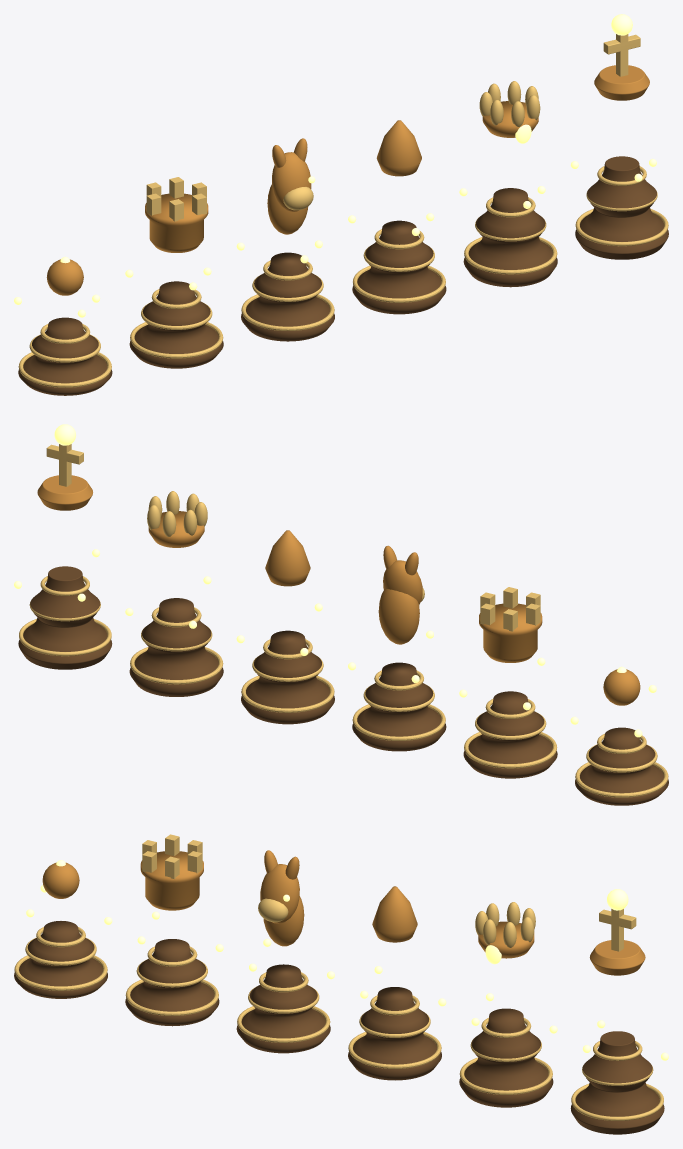
File: 07_Steampunk_Mecanico_6_Piezas.glb
3 views of the same model, one above another, from view 1: azimuth 30°, elevation 25°; view 2: azimuth 150°, elevation 25°; view 3: azimuth 330°, elevation 25° (orthographic).
Parts seen in each view (by area): view 1: 07_Steampunk_Mecanico_Torre, 07_Steampunk_Mecanico_Rey, 07_Steampunk_Mecanico_Reina, 07_Steampunk_Mecanico_Caballo, 07_Steampunk_Mecanico_Alfil, 07_Steampunk_Mecanico_Peon; view 2: 07_Steampunk_Mecanico_Torre, 07_Steampunk_Mecanico_Rey, 07_Steampunk_Mecanico_Caballo, 07_Steampunk_Mecanico_Reina, 07_Steampunk_Mecanico_Alfil, 07_Steampunk_Mecanico_Peon; view 3: 07_Steampunk_Mecanico_Torre, 07_Steampunk_Mecanico_Rey, 07_Steampunk_Mecanico_Reina, 07_Steampunk_Mecanico_Caballo, 07_Steampunk_Mecanico_Alfil, 07_Steampunk_Mecanico_Peon.
Boxes of the visible parts, x1,y1,x2,y2 form: 07_Steampunk_Mecanico_Torre: [125, 177, 223, 368]; 07_Steampunk_Mecanico_Rey: [570, 14, 668, 259]; 07_Steampunk_Mecanico_Reina: [459, 81, 557, 287]; 07_Steampunk_Mecanico_Caballo: [236, 138, 334, 341]; 07_Steampunk_Mecanico_Alfil: [348, 120, 446, 314]; 07_Steampunk_Mecanico_Peon: [14, 256, 112, 395]; 07_Steampunk_Mecanico_Torre: [459, 587, 557, 778]; 07_Steampunk_Mecanico_Rey: [14, 424, 112, 669]; 07_Steampunk_Mecanico_Caballo: [348, 545, 446, 751]; 07_Steampunk_Mecanico_Reina: [125, 491, 223, 696]; 07_Steampunk_Mecanico_Alfil: [236, 530, 334, 724]; 07_Steampunk_Mecanico_Peon: [570, 666, 668, 805]; 07_Steampunk_Mecanico_Torre: [125, 834, 223, 1026]; 07_Steampunk_Mecanico_Rey: [570, 889, 668, 1134]; 07_Steampunk_Mecanico_Reina: [459, 902, 557, 1107]; 07_Steampunk_Mecanico_Caballo: [236, 850, 334, 1053]; 07_Steampunk_Mecanico_Alfil: [348, 886, 446, 1080]; 07_Steampunk_Mecanico_Peon: [14, 860, 112, 998].
Size of the model in its own units: 8.16 by 2.77 by 1.09.
